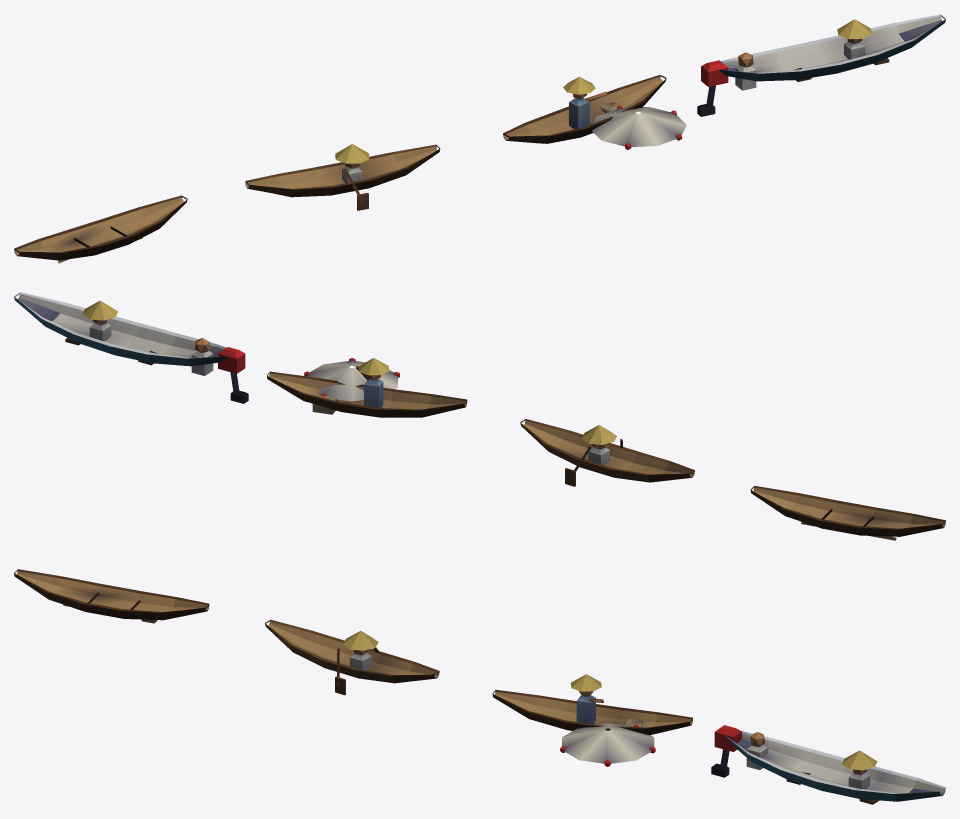
File: curiaras.glb
3 renders of one model, top to bottom at view 1: azimuth 30°, elevation 25°; view 2: azimuth 150°, elevation 25°; view 3: azimuth 330°, elevation 25°, orthographic.
Visible parts, largest first — view 1: penero_motor, curiara_c, curiara_b, curiara_a; view 2: penero_motor, curiara_c, curiara_b, curiara_a; view 3: penero_motor, curiara_c, curiara_b, curiara_a.
Part boxes in pixels (x1,y1,x2,y2): penero_motor: (697, 14, 945, 116); curiara_c: (503, 75, 686, 149); curiara_b: (245, 144, 440, 210); curiara_a: (14, 195, 187, 263); penero_motor: (14, 292, 248, 403); curiara_c: (267, 358, 467, 417); curiara_b: (520, 419, 694, 486); curiara_a: (750, 485, 945, 540); penero_motor: (711, 725, 945, 804); curiara_c: (492, 674, 692, 766); curiara_b: (265, 619, 439, 695); curiara_a: (14, 569, 209, 623).
Size of the model in its own units: 61.5 by 4.55 by 6.84.
